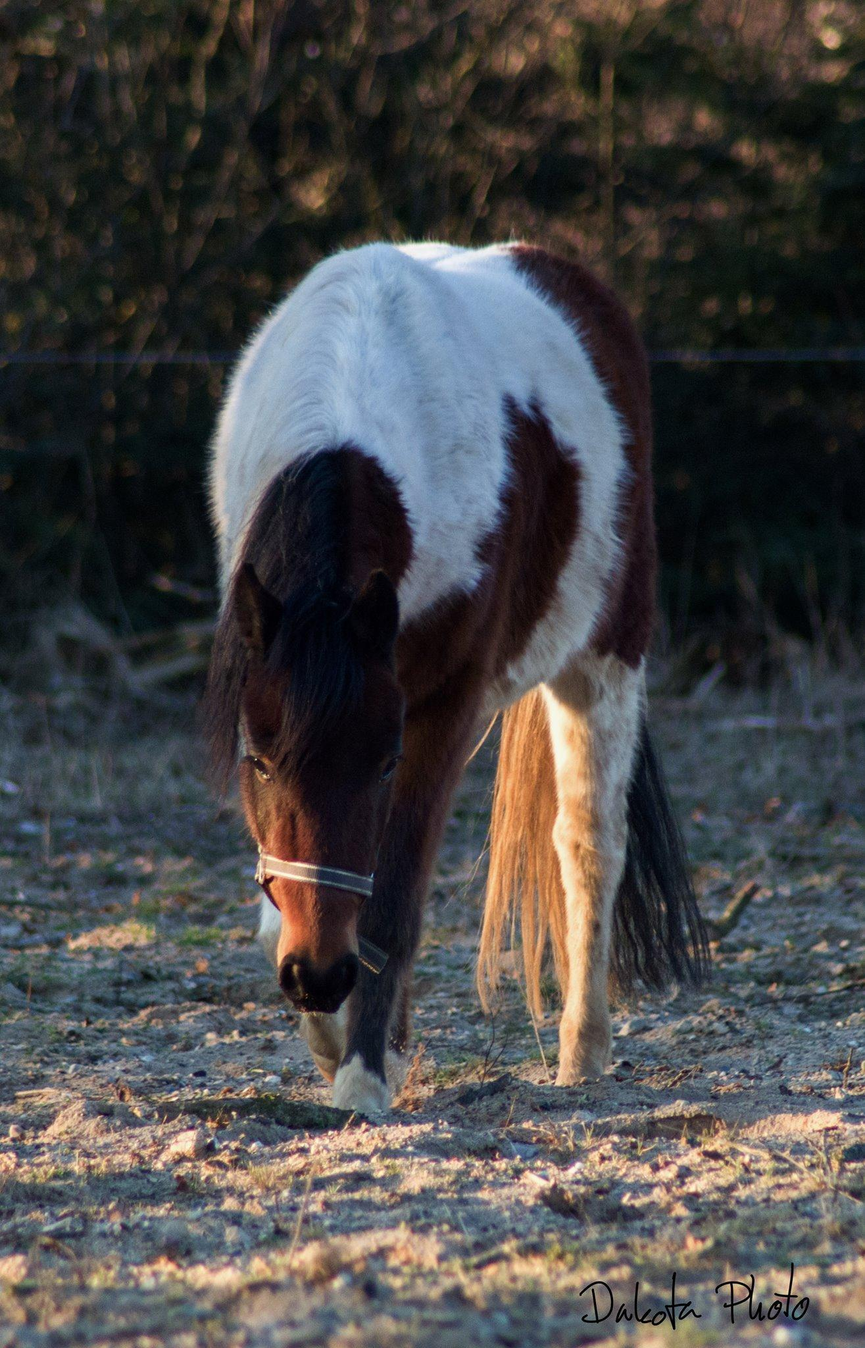horse: (180, 191, 732, 1132)
